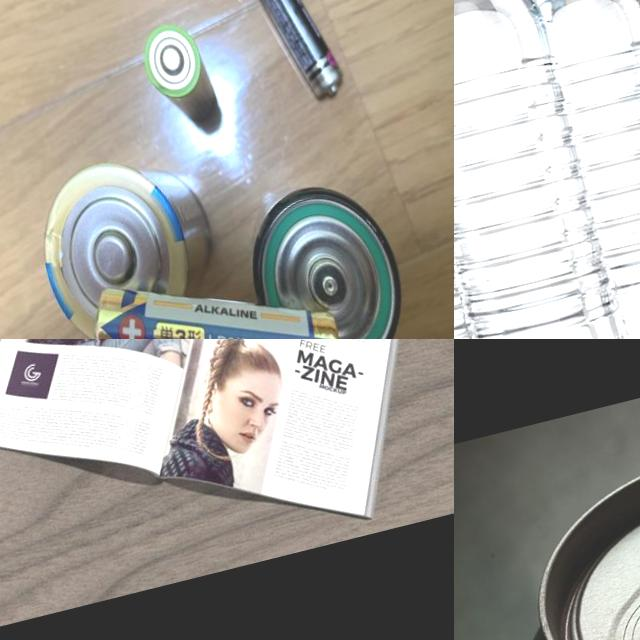bateria: (20, 135, 244, 339), (225, 169, 420, 339), (78, 231, 357, 339), (231, 0, 351, 112), (136, 13, 228, 142)
garrafa plástica: (454, 0, 632, 339), (511, 0, 640, 339), (454, 0, 499, 339)
lata: (473, 392, 640, 640)
papel: (0, 339, 454, 610)
